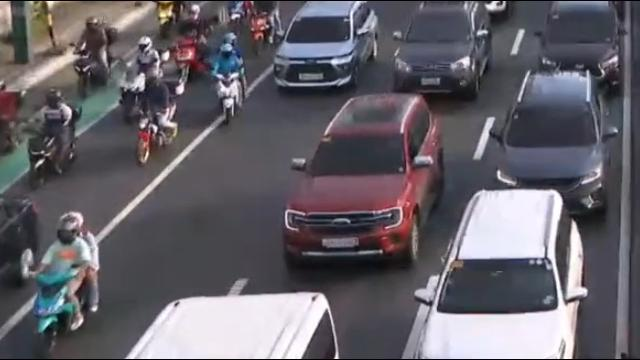car: (411, 189, 590, 359), (281, 94, 447, 264), (489, 68, 620, 223), (272, 0, 381, 97), (390, 0, 494, 101), (533, 0, 630, 102)
motorcycle: (27, 210, 100, 357), (25, 87, 83, 194), (117, 35, 172, 129), (133, 71, 181, 169), (69, 17, 118, 102), (170, 4, 213, 85), (211, 33, 247, 127), (244, 0, 285, 54)
